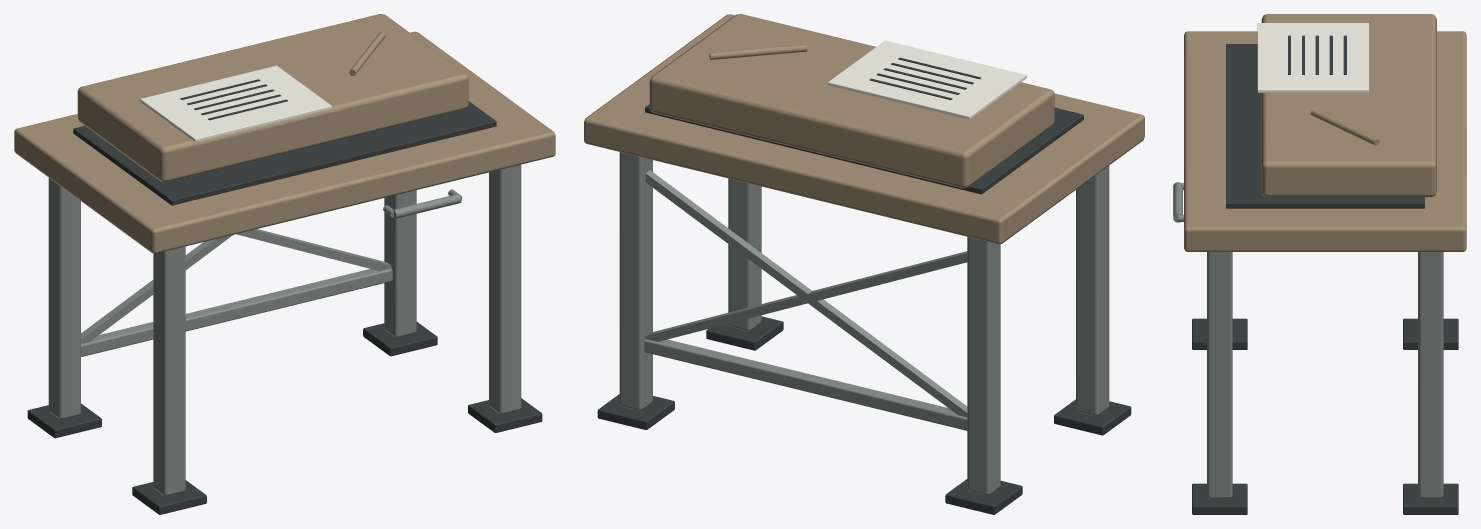
Rendered from coastal-saltworks-and-trade-port-coastal-saltworks-and-b91cc729__31400.glb.
3 renders of one model, left to right at view 1: azimuth 30°, elevation 25°; view 2: azimuth 150°, elevation 25°; view 3: azimuth 270°, elevation 25°, orthographic. The views are drawn at different scales.
Parts seen in each view (by area): view 1: coastal-saltworks-and-trade-port-merchant-tally-desk; view 2: coastal-saltworks-and-trade-port-merchant-tally-desk; view 3: coastal-saltworks-and-trade-port-merchant-tally-desk.
Boxes of the visible parts, x1,y1,x2,y2 form: coastal-saltworks-and-trade-port-merchant-tally-desk: (14, 14, 555, 514); coastal-saltworks-and-trade-port-merchant-tally-desk: (584, 14, 1144, 514); coastal-saltworks-and-trade-port-merchant-tally-desk: (1173, 14, 1466, 514).
Size of the model in its own units: 1.18 by 0.949 by 0.737.
